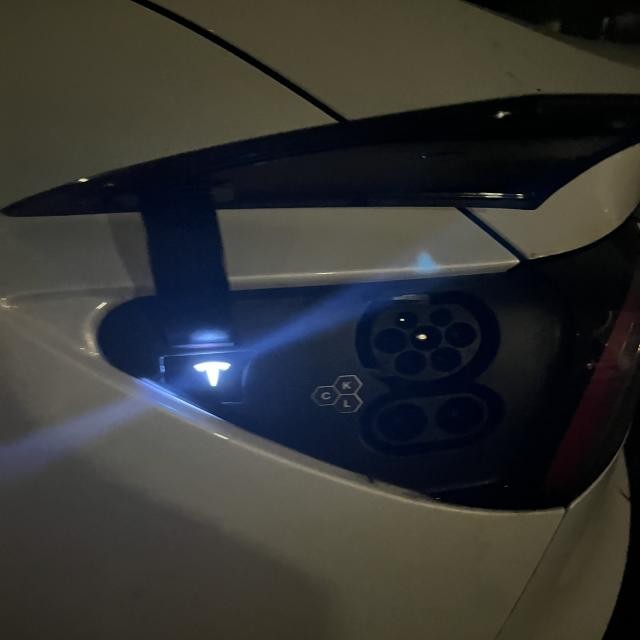inlet: (370, 304, 481, 381)
inlet-above-left: (395, 312, 418, 329)
inlet-above-right: (429, 309, 453, 326)
inlet-below-left: (394, 350, 427, 375)
inlet-below-right: (430, 347, 462, 372)
inlet-circle: (409, 325, 442, 351)
inlet-circle-left: (374, 328, 408, 354)
inlet-circle-right: (445, 322, 477, 348)
inlet-minus: (436, 397, 484, 434)
inlet-plus: (376, 405, 429, 441)
